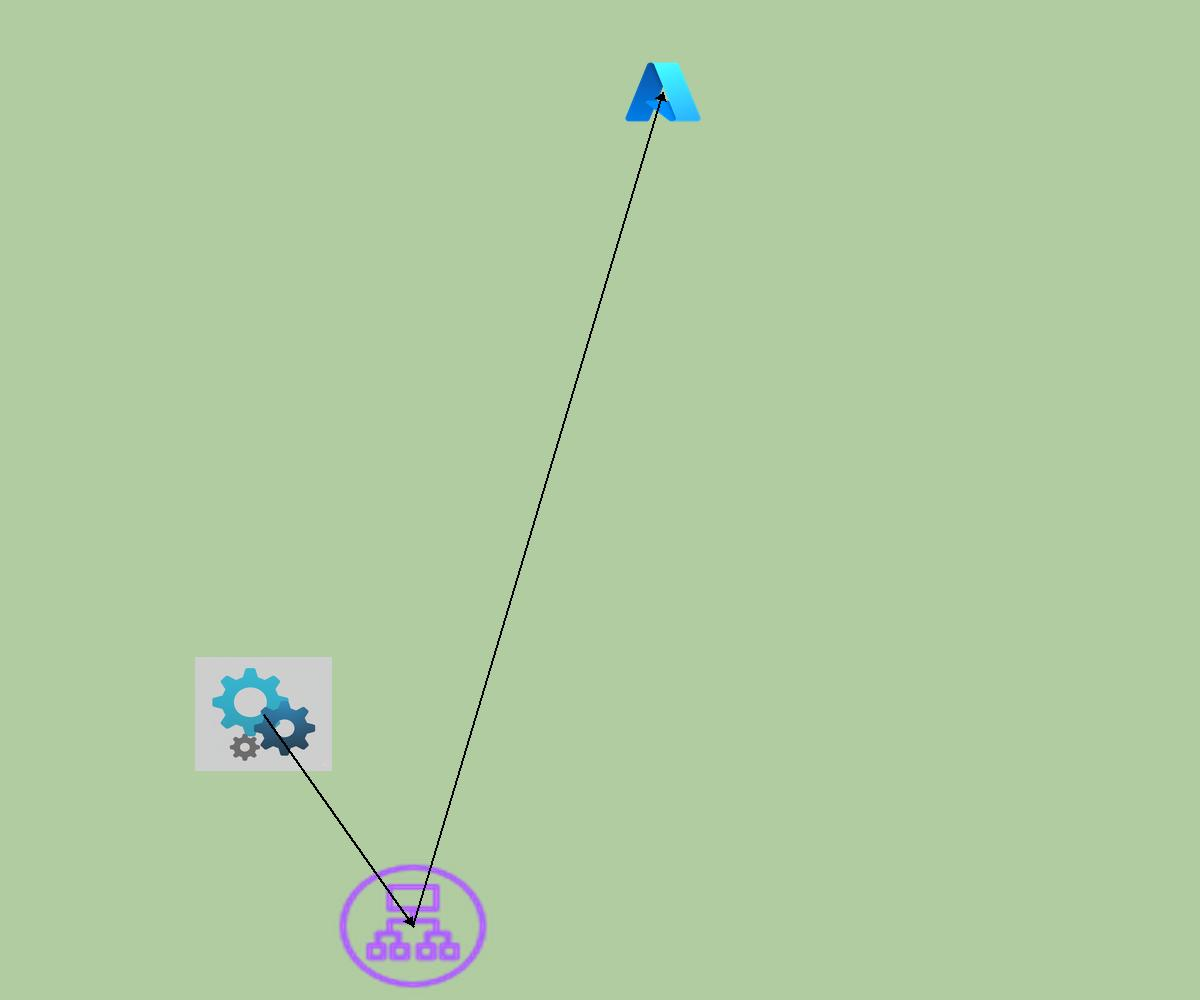AWS-Res_Elastic-Load-Balancing_Application-Load-Balancer: (333, 859, 493, 993)
Azure_api: (195, 657, 332, 771)
Azure_services: (622, 58, 704, 126)
